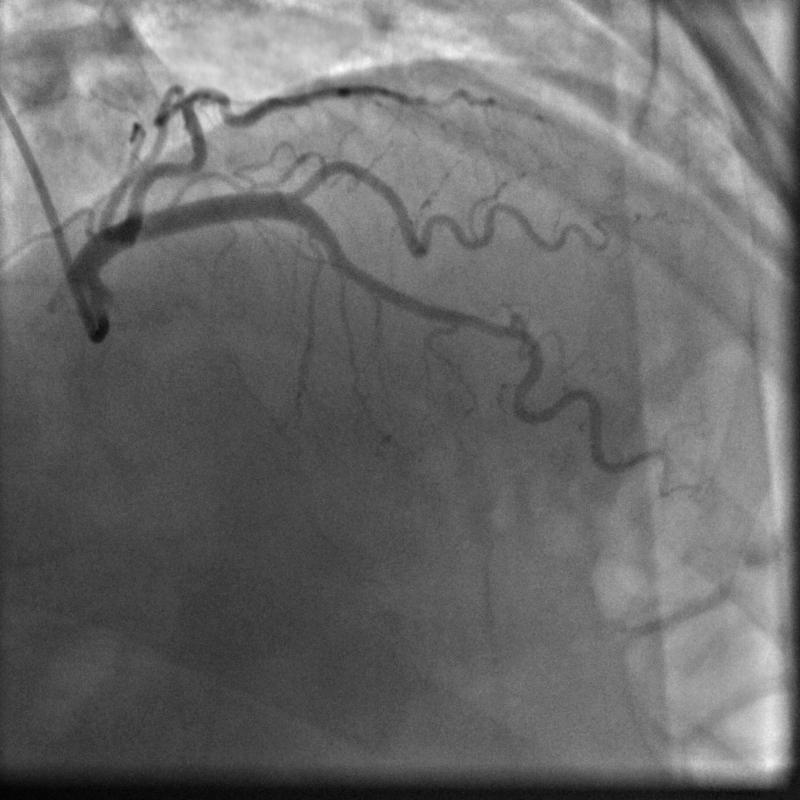Stenosis: (462, 310, 522, 346)
